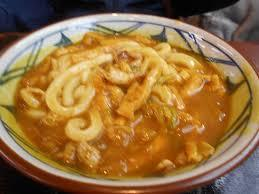curry: (1, 9, 259, 190)
